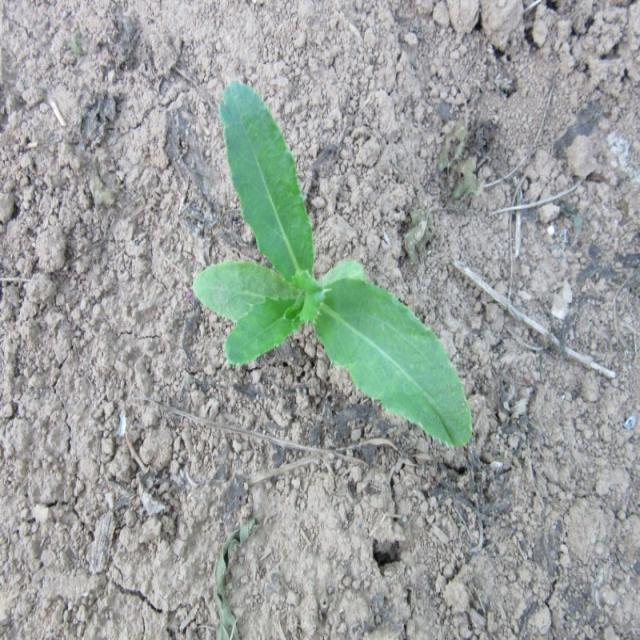cs: (192, 79, 473, 445)
